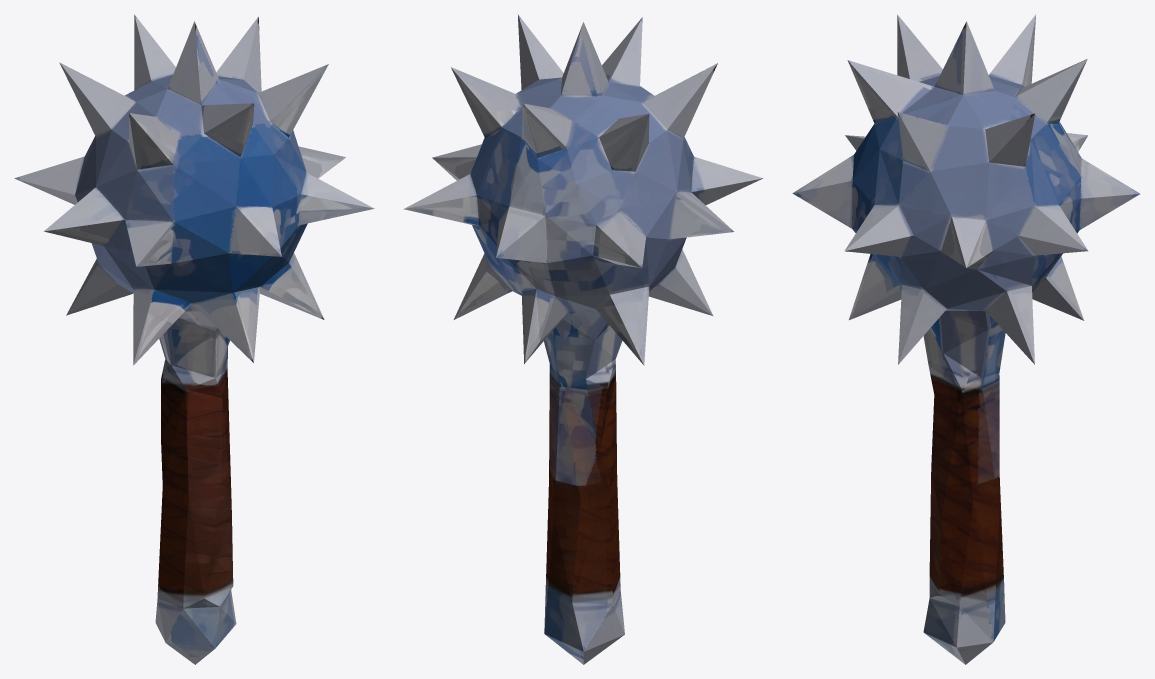
File: crystal_mace_3.glb
3 views of the same model, side by side, from view 1: azimuth 30°, elevation 25°; view 2: azimuth 150°, elevation 25°; view 3: azimuth 270°, elevation 25° (orthographic).
Parts seen in each view (by area): view 1: TexturedMesh_.obj; view 2: TexturedMesh_.obj; view 3: TexturedMesh_.obj.
Part boxes in pixels (x1=…): TexturedMesh_.obj: x1=14, y1=14, x2=374, y2=664; TexturedMesh_.obj: x1=403, y1=14, x2=762, y2=664; TexturedMesh_.obj: x1=792, y1=14, x2=1140, y2=664.
Bounding box in the file's own units: 0.9861 × 2 × 0.9827.
1 material, 1 textured.
